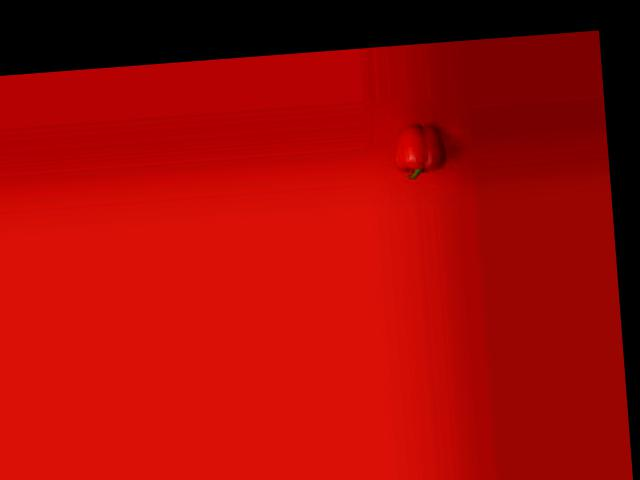bell_pepper: (393, 118, 449, 181)
